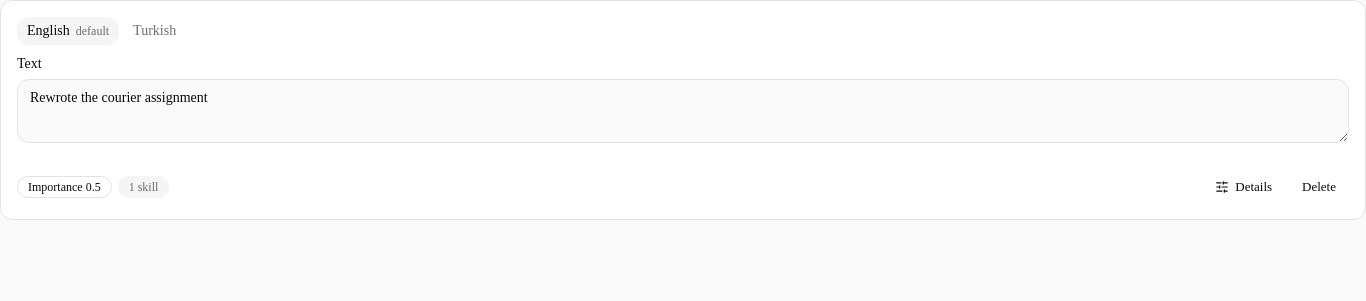
a wording that was translated rather than written › says so, on a wording that is otherwise perfectly up to date
This screenshot has width=1366, height=301.
What coordinates should you click on to do the following:
click the tab "Turkish"
I would click on:
 (155, 31)
Its box is x1=123 y1=17 x2=186 y2=45.
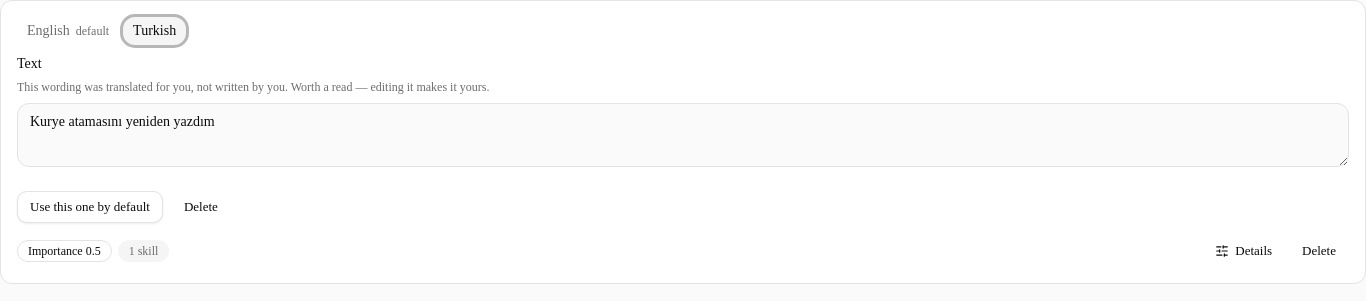
Check: the message with test id "translated-wording" shows "This wording was translated for you, not written by you. Worth a read — editing it makes it yours.", box x1=17 y1=80 x2=489 y2=94
